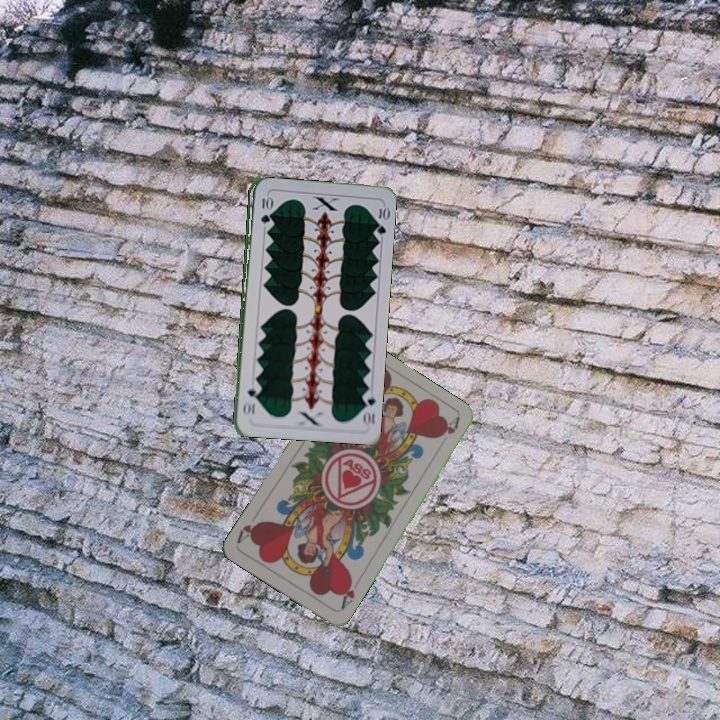G10: (358, 388, 378, 428), (257, 193, 271, 227)
HA: (336, 574, 358, 612)
